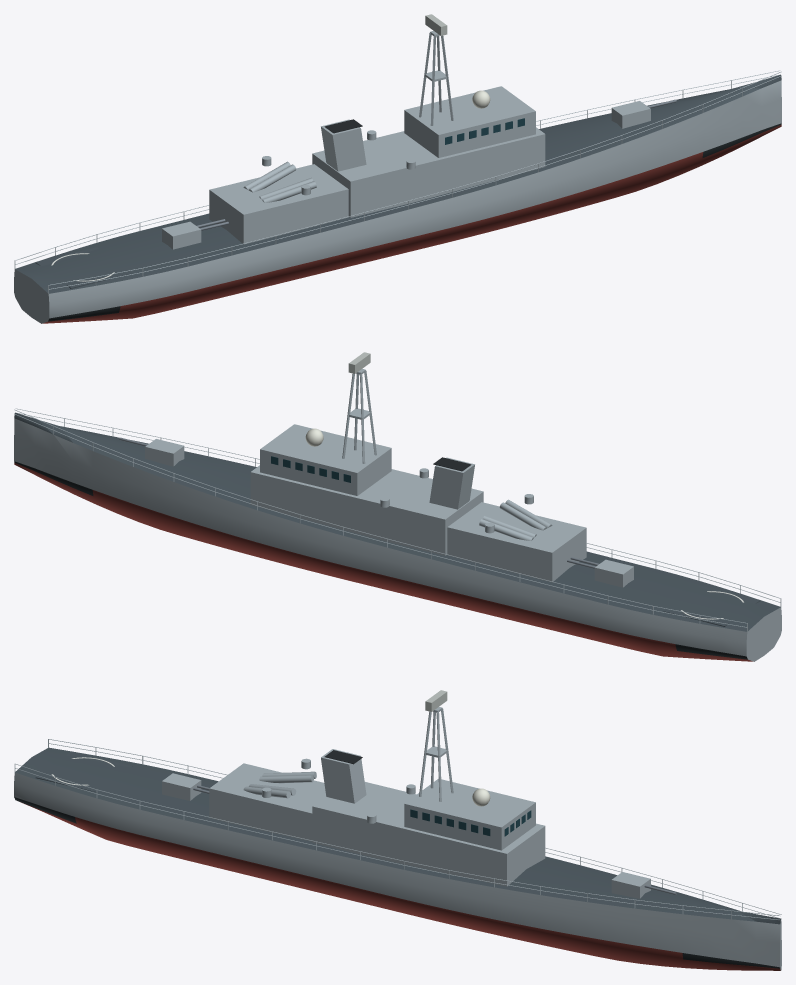
Rendered from irn_ffg_moudge.glb.
3 views of the same model, one above another, from view 1: azimuth 30°, elevation 25°; view 2: azimuth 150°, elevation 25°; view 3: azimuth 330°, elevation 25° (orthographic).
Visible parts, largest first — view 1: naval_paint, deck_non_skid, antifouling, boot_topping; view 2: naval_paint, deck_non_skid, antifouling, boot_topping; view 3: naval_paint, deck_non_skid, antifouling, boot_topping, glazing.
Boxes of the visible parts, x1,y1,x2,y2 form: naval_paint: (14,31,781,323); deck_non_skid: (15,74,781,293); antifouling: (43,124,781,323); boot_topping: (48,123,781,321); naval_paint: (14,369,781,661); deck_non_skid: (14,412,780,631); antifouling: (14,462,752,661); boot_topping: (14,461,747,659); naval_paint: (14,707,781,970); deck_non_skid: (15,747,780,924); antifouling: (20,802,780,970); boot_topping: (14,797,780,968); glazing: (410,809,531,836).
Size of the model in its own units: 10 by 2.72 by 1.17.
